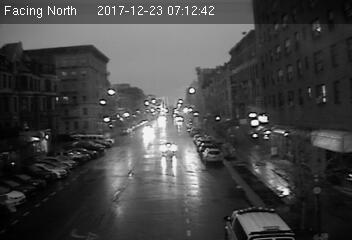car: (202, 147, 224, 164), (159, 142, 178, 156)
police: (221, 205, 291, 240)
